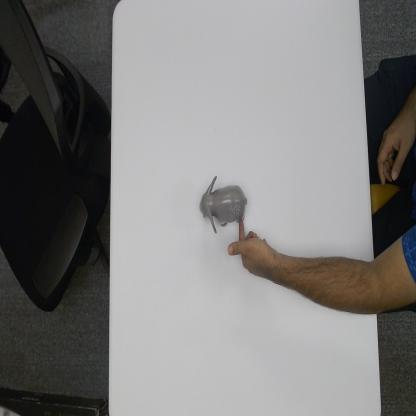Arm: (274, 244, 374, 320)
Elephant: (199, 173, 248, 235)
Hand: (228, 219, 274, 282)
